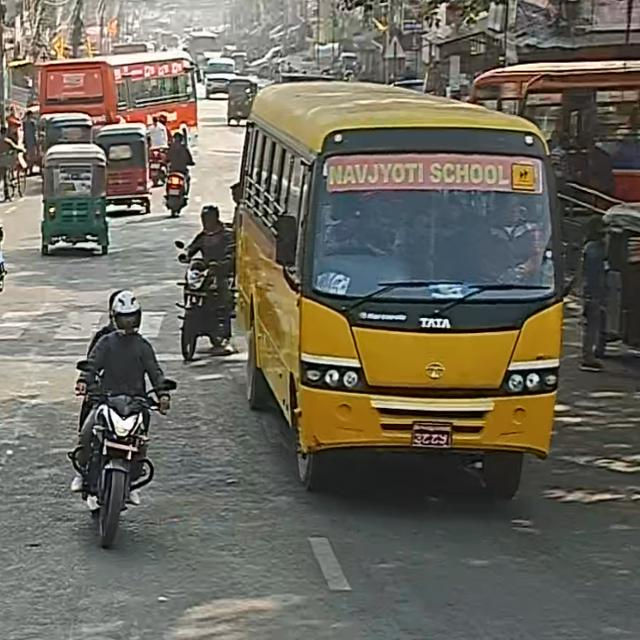license_plate: (400, 420, 473, 460)
